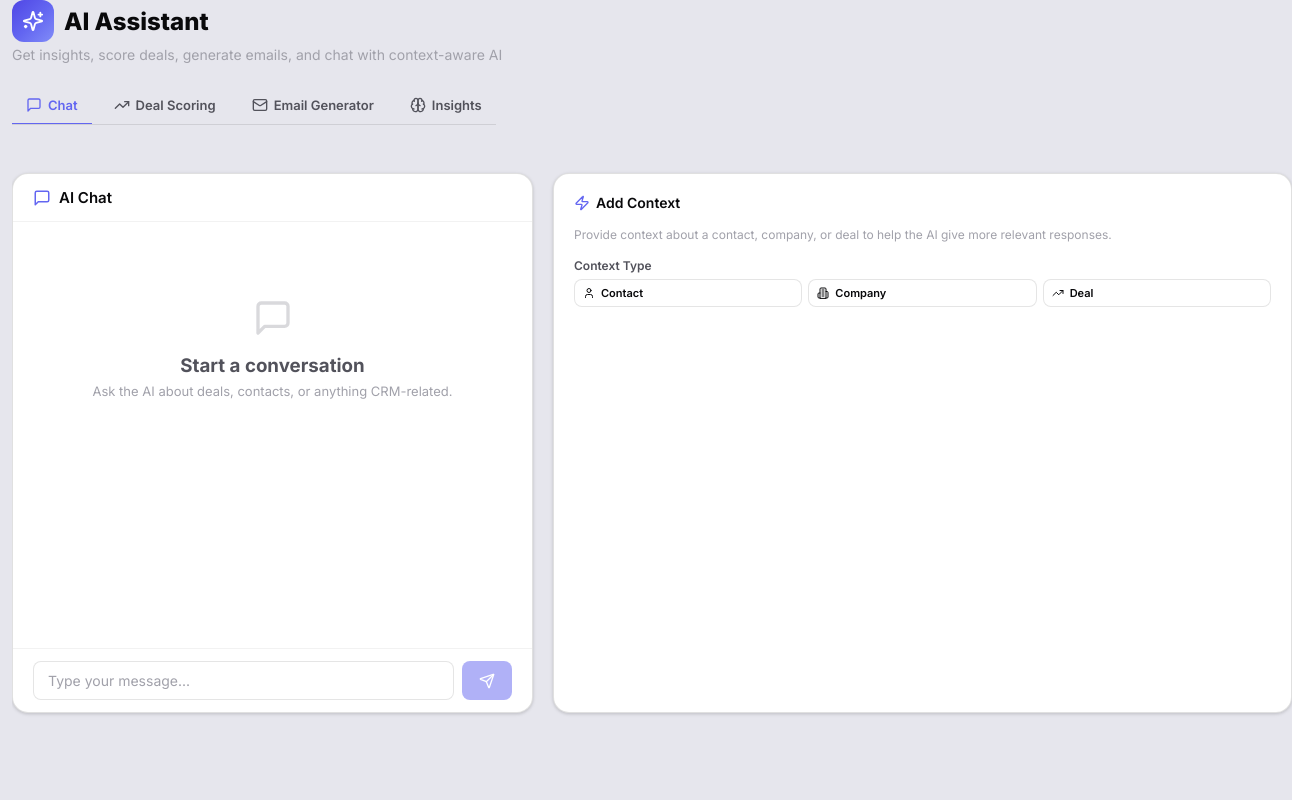
Scenario: AIAssistant › switches to scoring tab
Step 1. Click the button "Deal Scoring" → (165, 106), box 100,87 -> 230,125
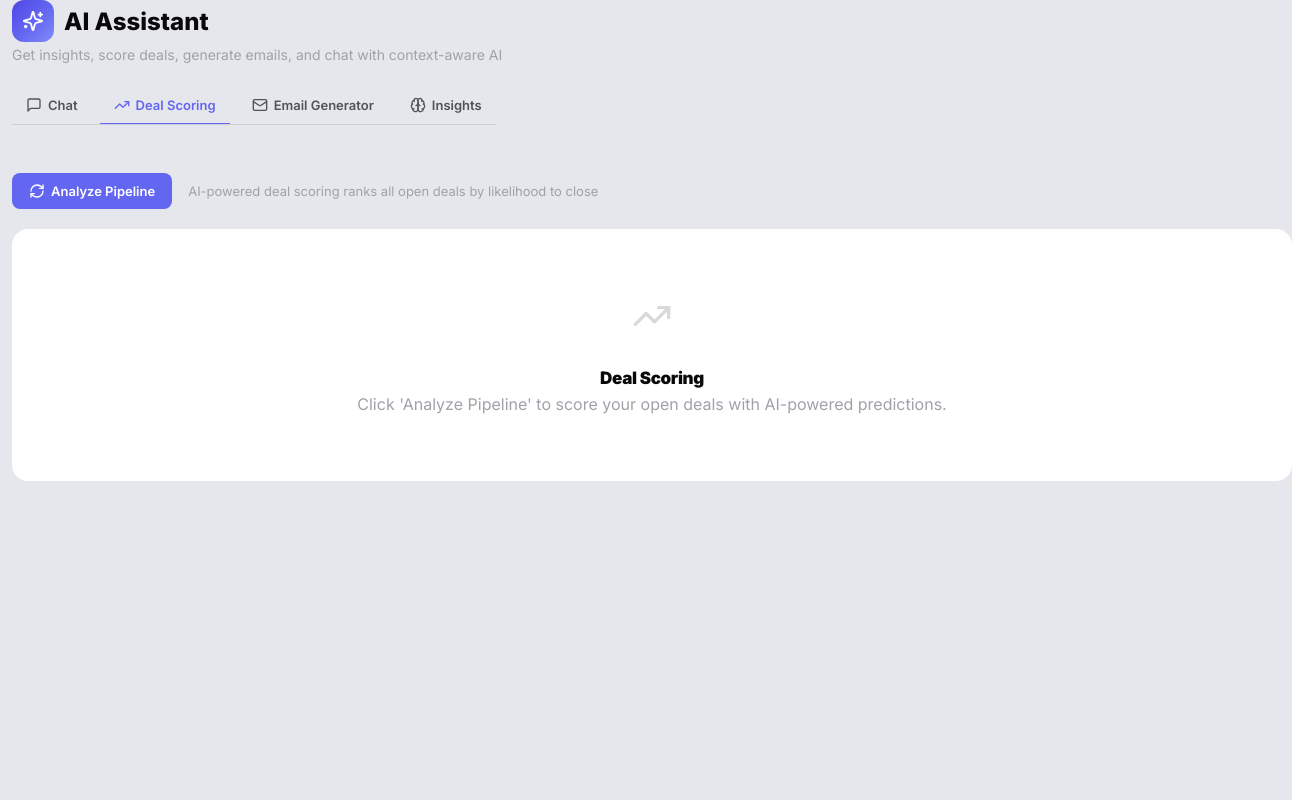
expect the button "Analyze Pipeline" is shown: met, box 12,173 -> 172,209
